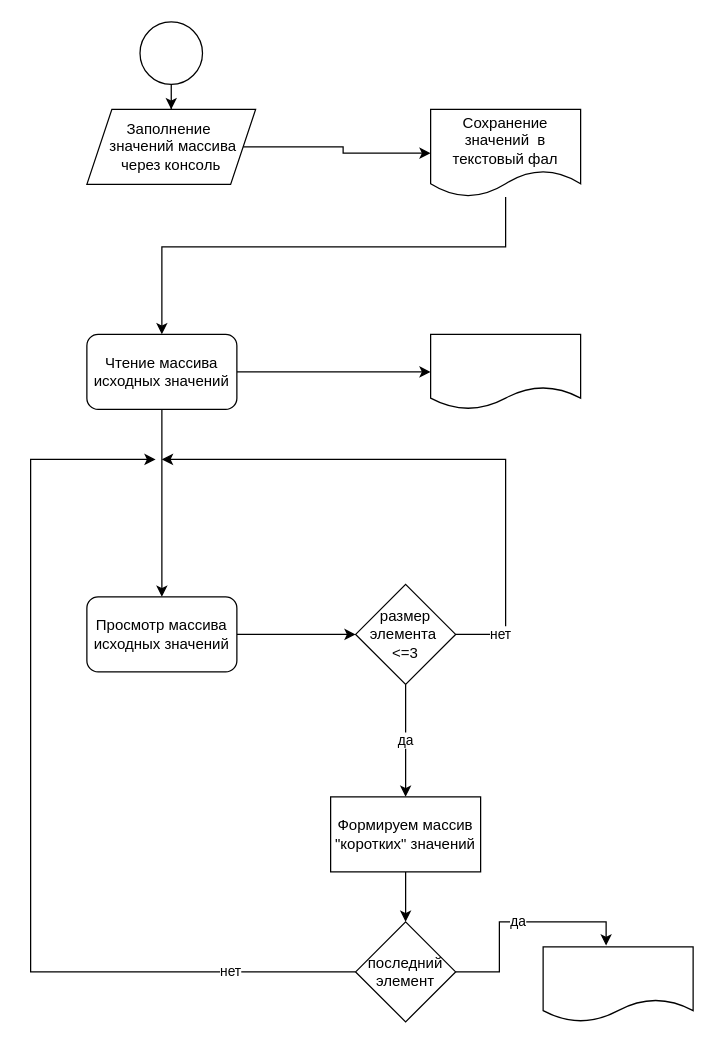
This 715x1044 diagram has some shape labels left out. Here are the shapes that lost their labels. From the top down, the centre of each, then its label:
pixel 170 52: Начало
pixel 505 371: Вывод на печать исходных значений
pixel 617 984: Вывод на печать искомых значений
